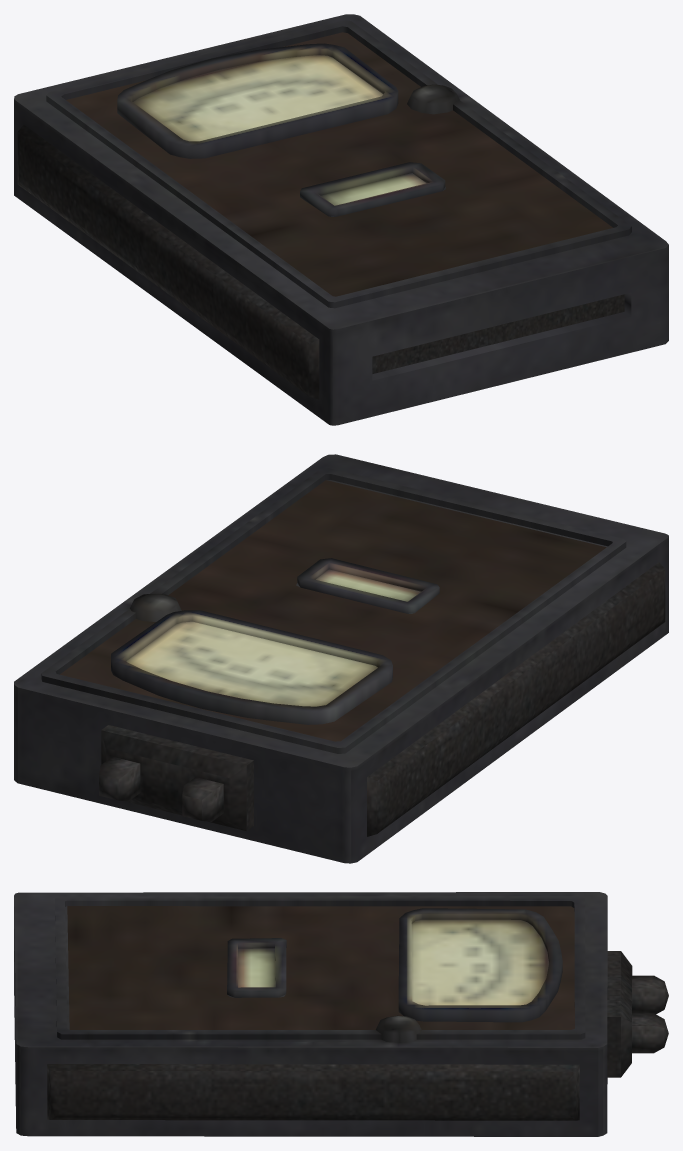
Rendered from dosimeter_3.fbx.
3 renders of one model, top to bottom at view 1: azimuth 30°, elevation 25°; view 2: azimuth 150°, elevation 25°; view 3: azimuth 270°, elevation 25°, orthographic. The views are drawn at different scales.
Visible parts, largest first — view 1: dosimeter_3; view 2: dosimeter_3; view 3: dosimeter_3.
Part boxes in pixels (x1,y1,x2,y2): dosimeter_3: (14, 14, 668, 425); dosimeter_3: (14, 454, 668, 863); dosimeter_3: (14, 892, 668, 1136).
Size of the model in its own units: 0.1602 by 0.2667 by 0.045.
